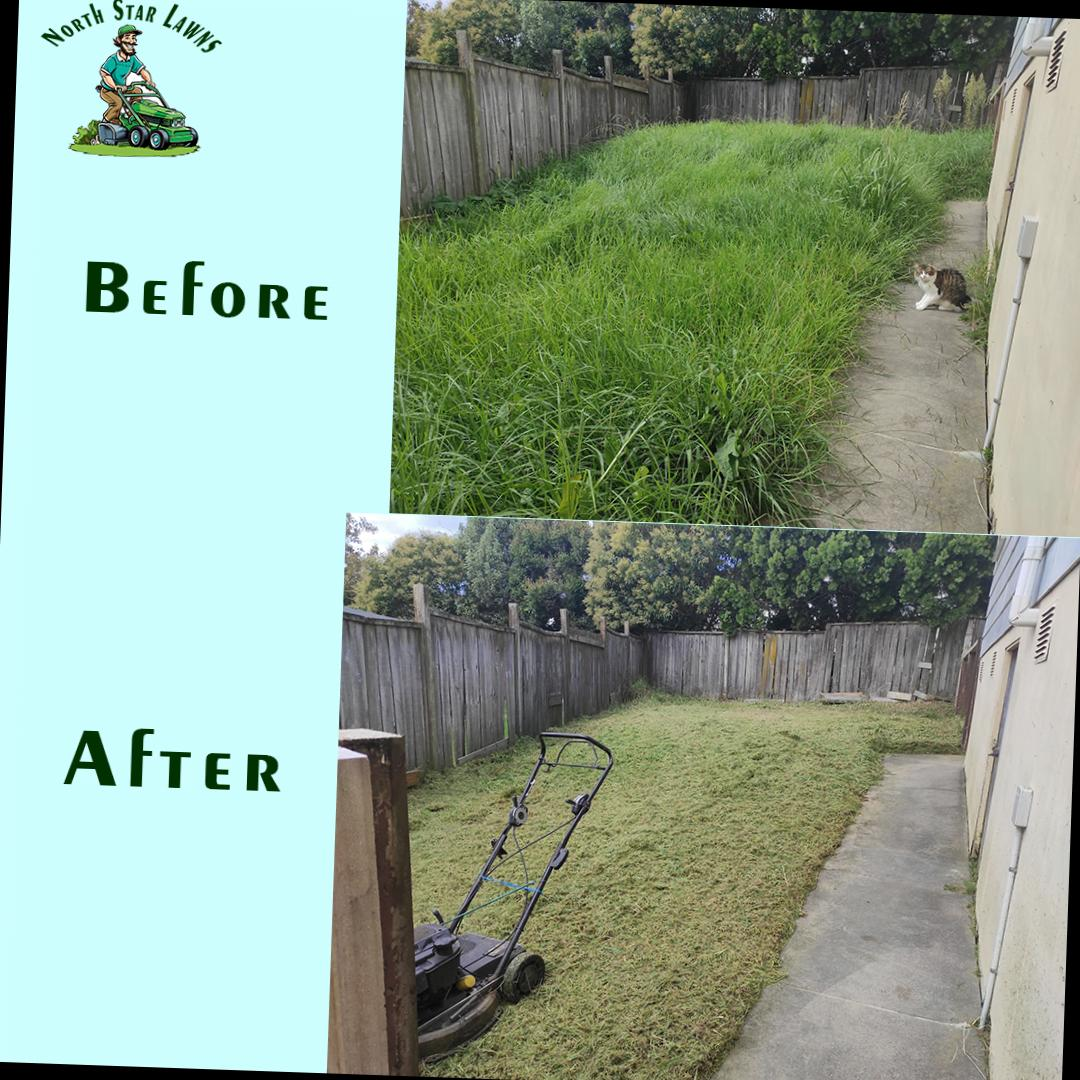overgrown grass: (387, 120, 994, 528), (966, 252, 990, 343)
